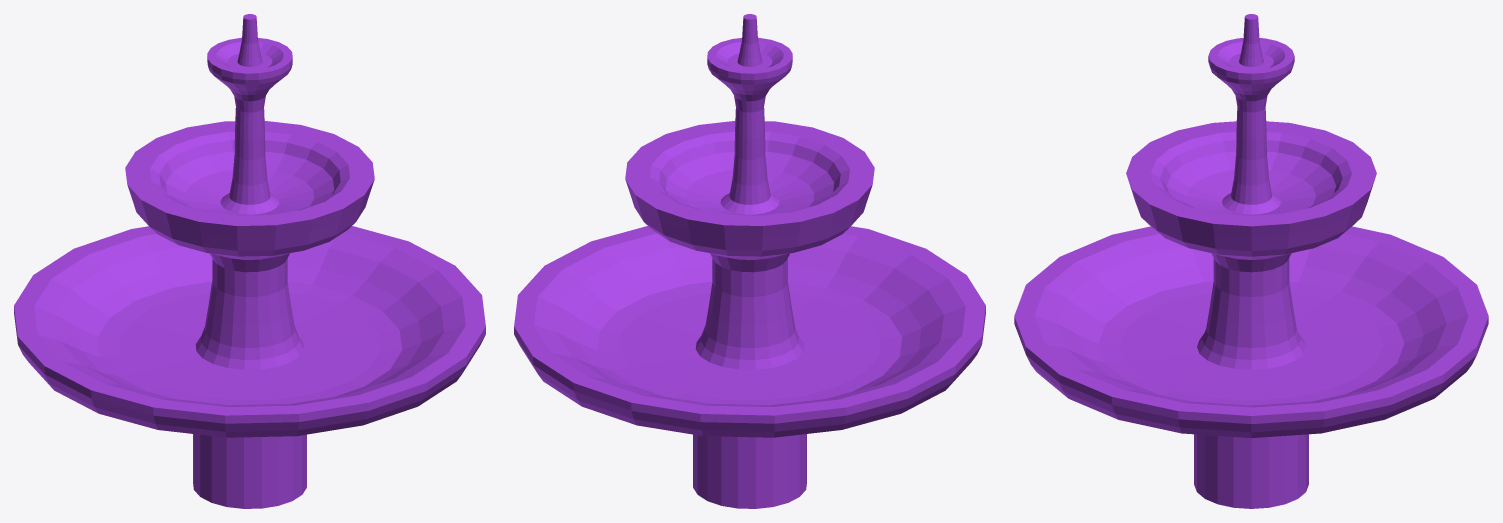
Rendered from Glass_107.fbx.
3 views of the same model, side by side, from view 1: azimuth 30°, elevation 25°; view 2: azimuth 150°, elevation 25°; view 3: azimuth 270°, elevation 25° (orthographic).
Parts seen in each view (by area): view 1: Glass_107; view 2: Glass_107; view 3: Glass_107.
Part boxes in pixels (x1,y1,x2,y2): Glass_107: (14, 14, 485, 508); Glass_107: (514, 14, 985, 508); Glass_107: (1014, 14, 1488, 508).
Bounding box in the file's own units: 866 × 942 × 866.
